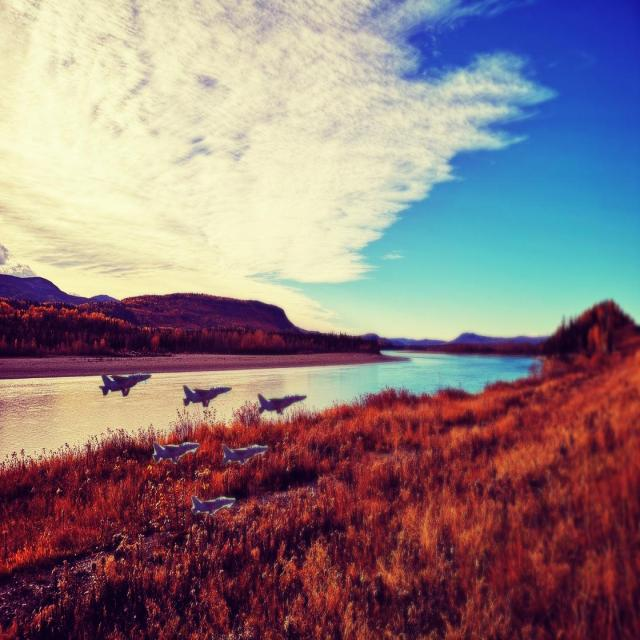airplane: (98, 372, 152, 397), (152, 440, 200, 465), (256, 392, 306, 415), (182, 384, 232, 407), (220, 443, 268, 466), (190, 494, 236, 517)
